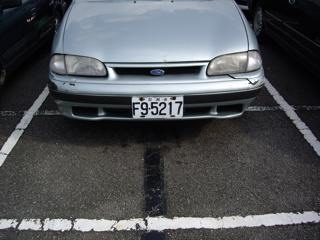plate: (131, 94, 185, 118)
